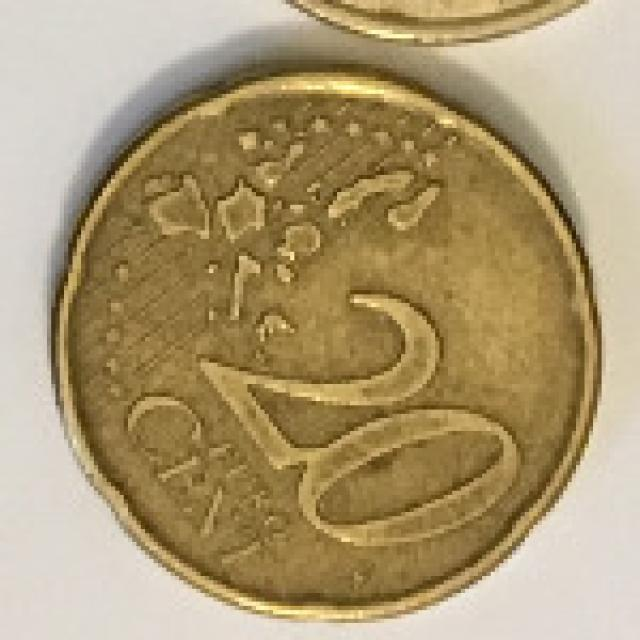20c: (50, 71, 614, 623)
